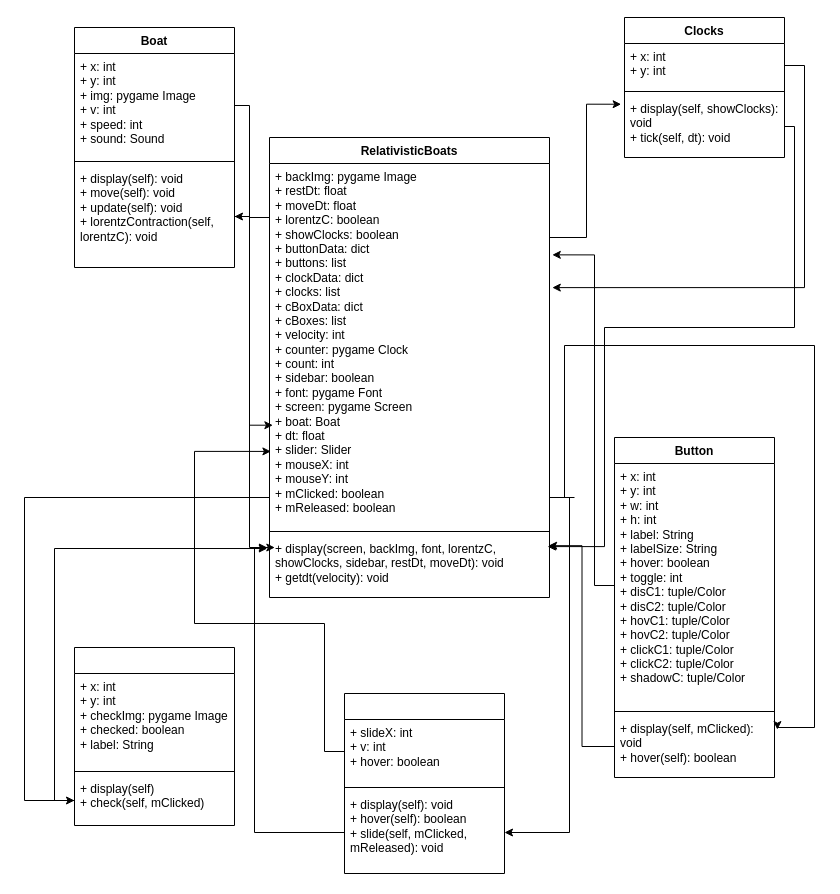
The diagram is 840 pixels wide and 894 high, and some of its shapes have lost their labels. The box of each missing label's shape, as (x1, y1, x2, y2) in pixels:
Checkbox: (74, 646, 234, 826)
Slider: (344, 692, 504, 874)
